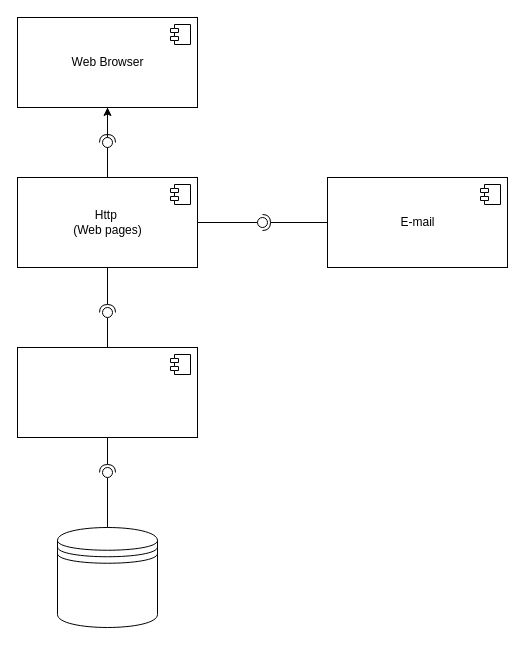
Some shapes in this 525 by 645 pixel diagram are drawn without their labels. Here are the shapes that lost their labels. From the top down, the centre of each, then its label:
At (107,392): "Server".
At (107,577): "Database (MySQL)".
